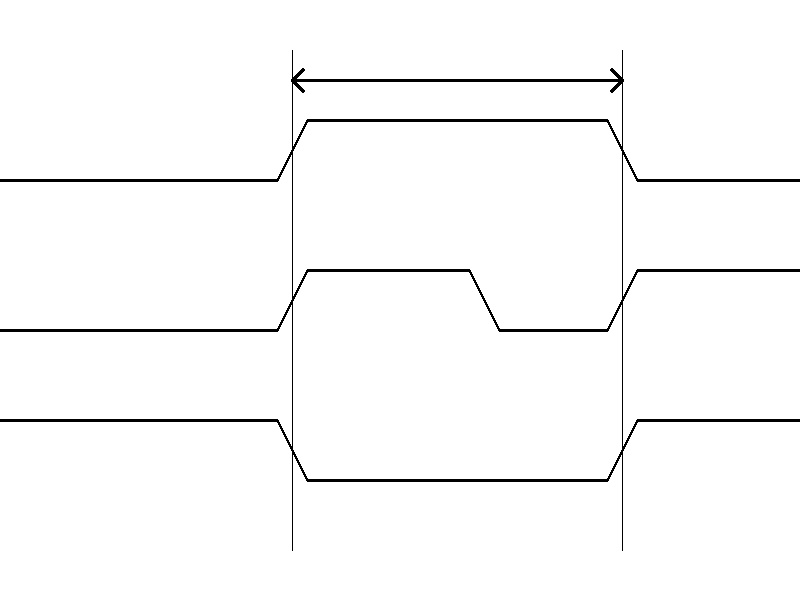double_arrow: (292, 65, 622, 95)
